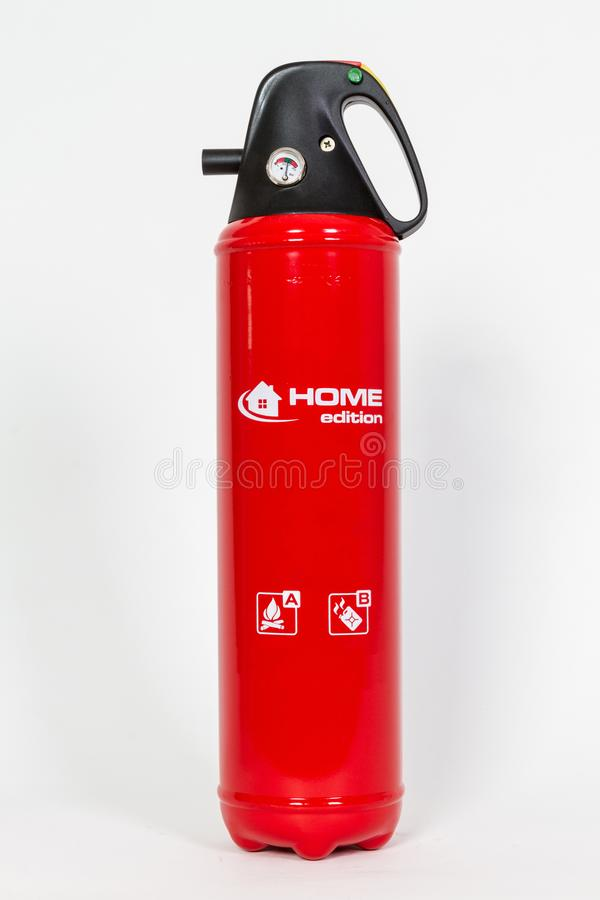fire_extinguisher: (201, 59, 429, 860)
